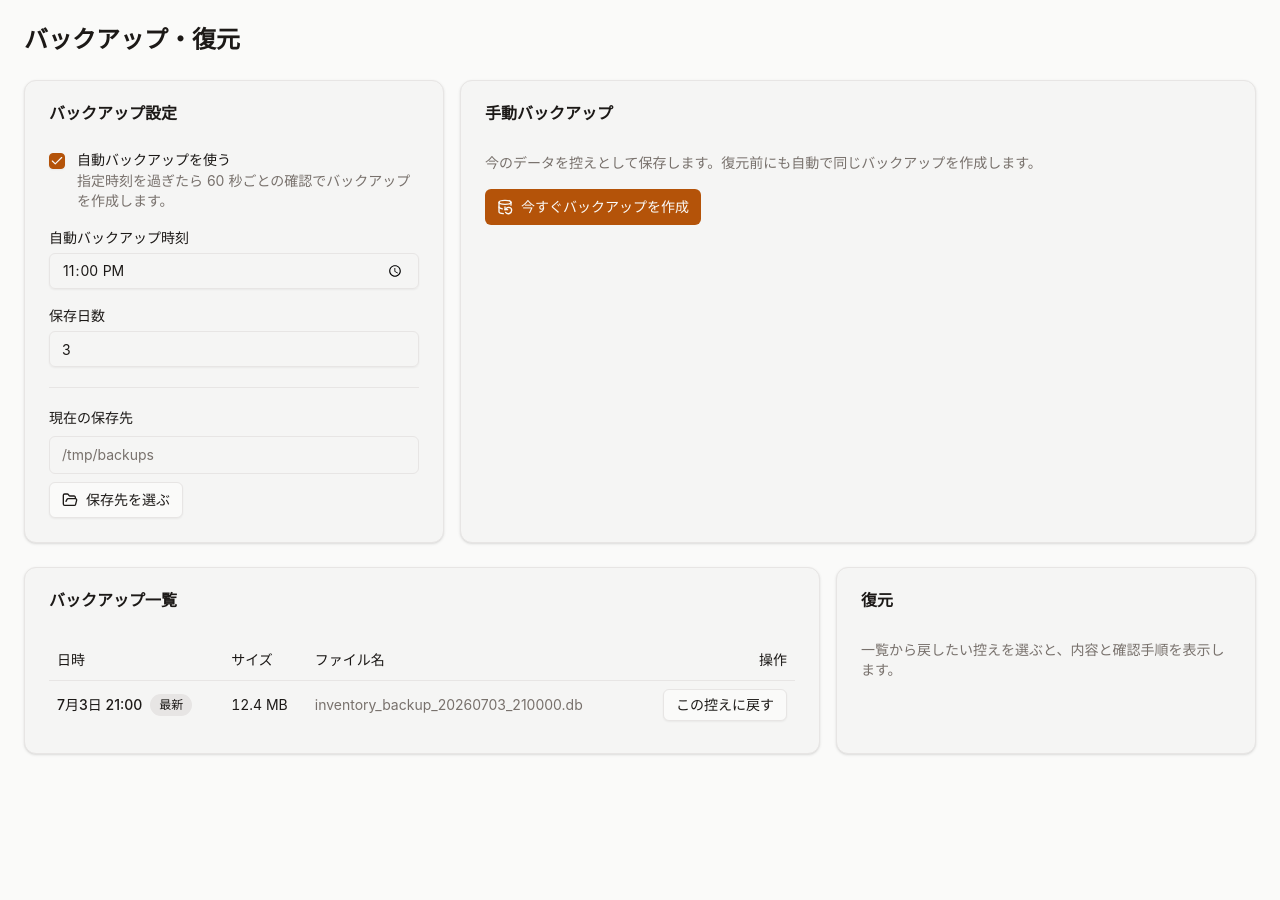
Scenario: BackupRestorePage (UI-11b / QR-05 / REQ-905) › QR-05 REQ-905 shows non-assertive guidance for durability unknown
Expected: the heading "バックアップ・復元" is shown, x1=24 y1=25 x2=240 y2=54
Expected: the text "7月3日 21:00" is shown, x1=57 y1=696 x2=142 y2=712
Step 1. Click the button "この控えに戻す" → (725, 704), box x1=663 y1=688 x2=787 y2=720
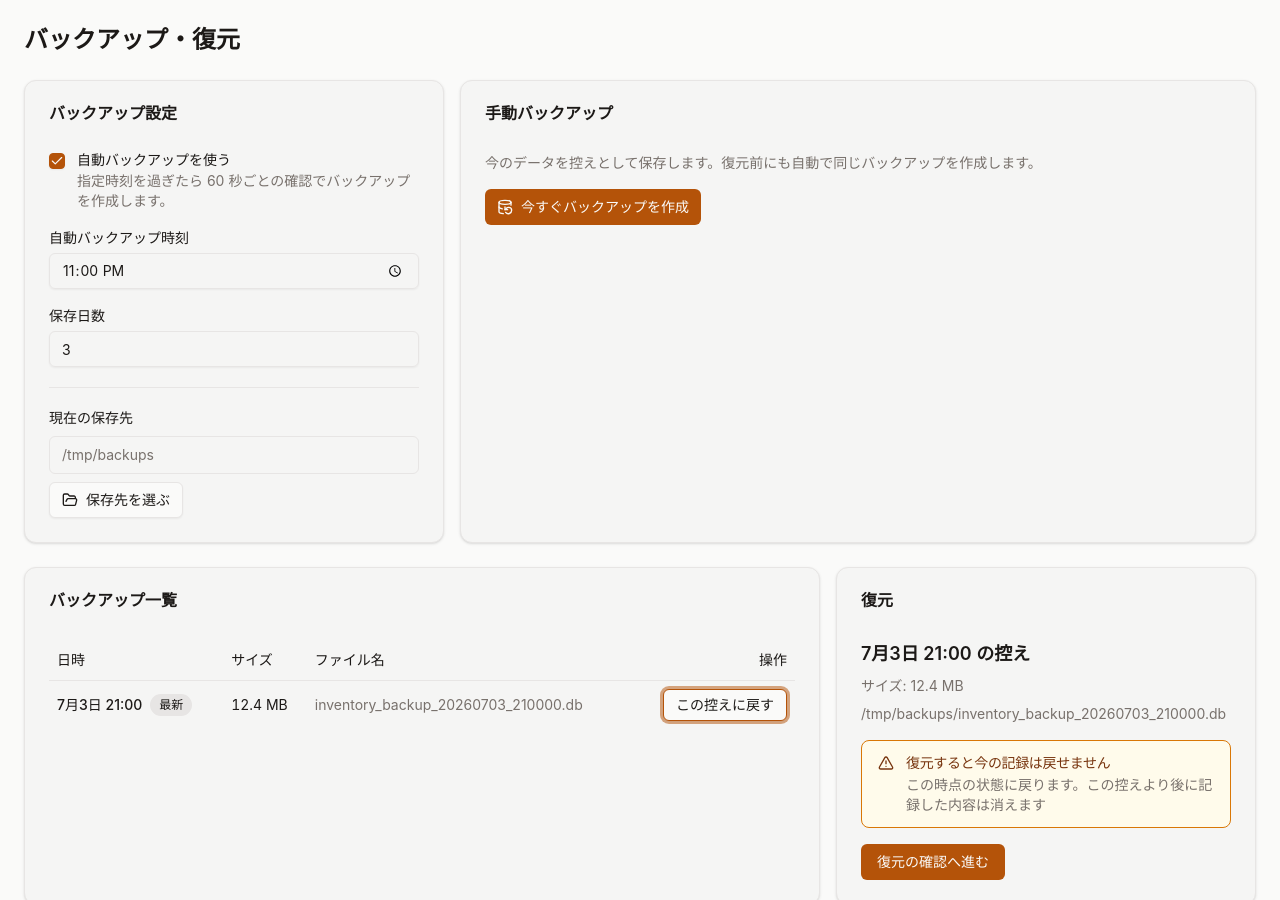
Now the text "この時点の状態に戻ります。この控えより後に記録した内容は消えます" is shown, box x1=906 y1=775 x2=1214 y2=815
Step 2. Click the button "復元の確認へ進む" → (933, 862), box x1=861 y1=844 x2=1005 y2=880
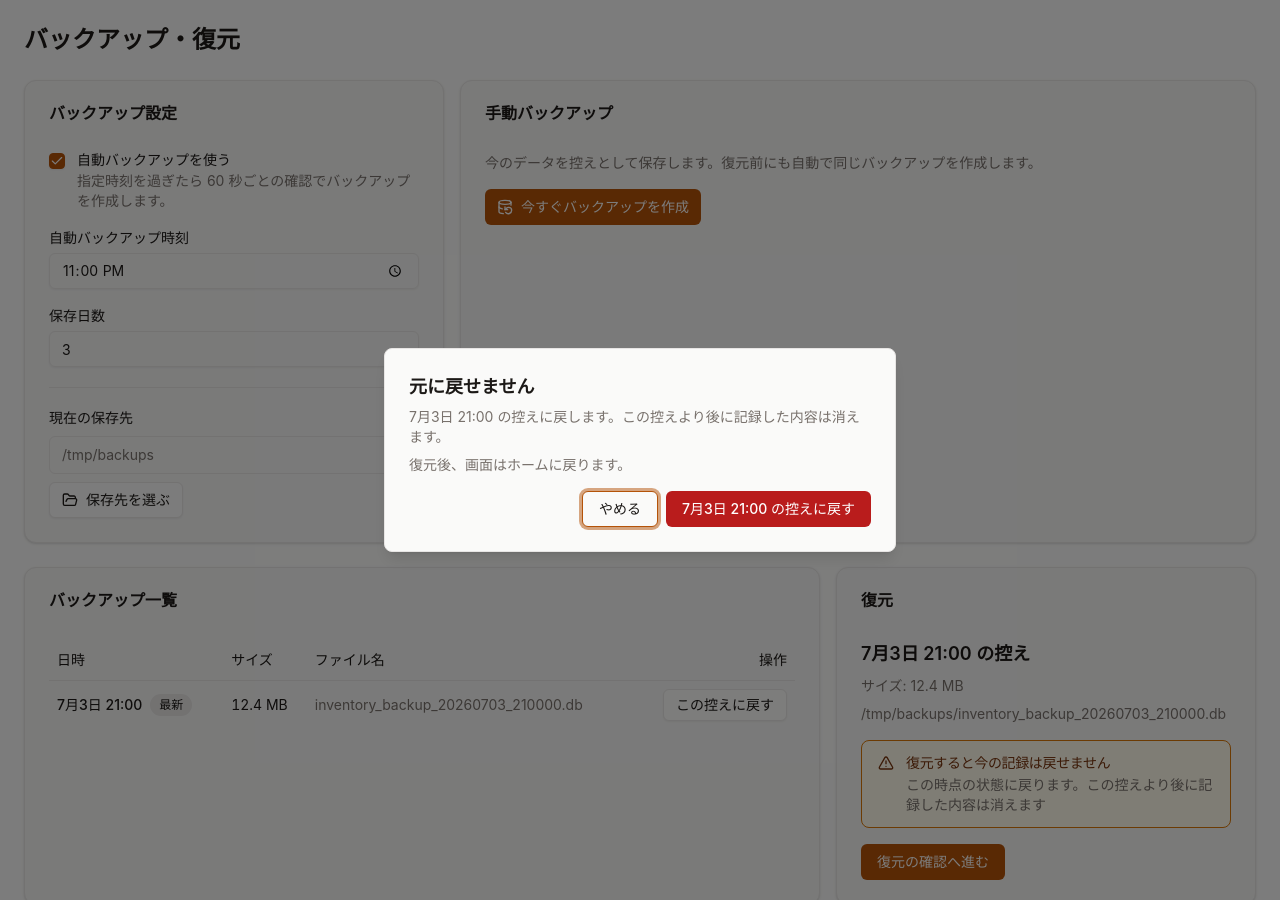
Step 3. Click the button "7月3日 21:00 の控えに戻す" → (768, 509), box x1=666 y1=491 x2=871 y2=527
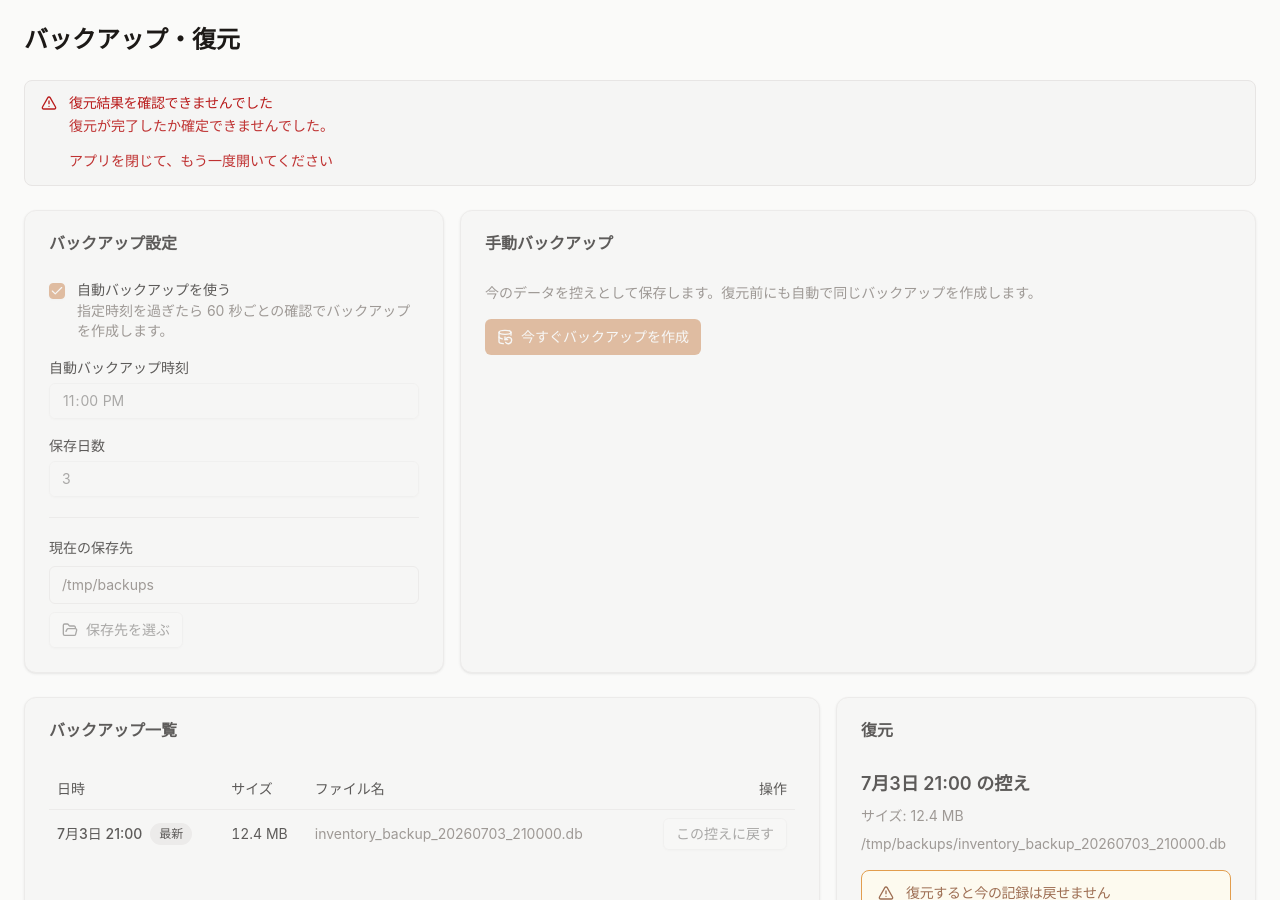
Now the text "復元結果を確認できませんでした" is shown, box x1=69 y1=94 x2=273 y2=111
Now the text "復元が完了したか確定できませんでした。" is shown, box x1=69 y1=115 x2=334 y2=138
